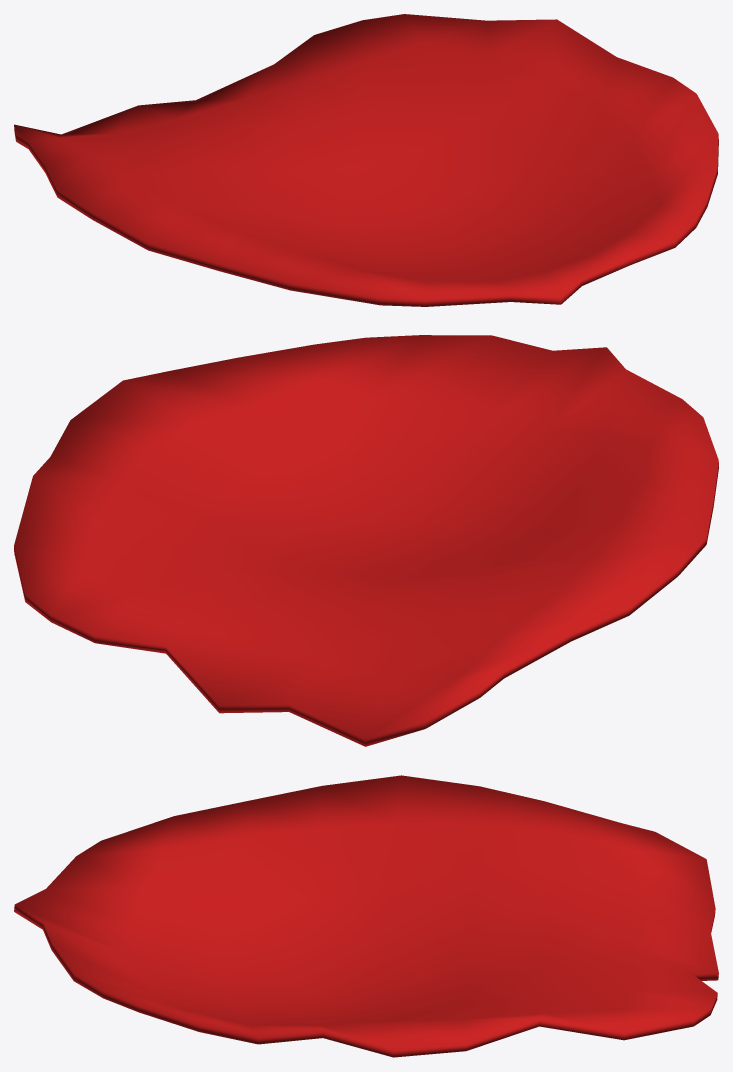
Rendered from petal.glb.
The picture shows the model from 3 angles, top to bottom: view 1: azimuth 30°, elevation 25°; view 2: azimuth 150°, elevation 25°; view 3: azimuth 270°, elevation 25°; orthographic projection. The views are drawn at different scales.
Parts seen in each view (by area): view 1: petal1; view 2: petal1; view 3: petal1.
Part boxes in pixels (x1,y1,x2,y2): petal1: (14,14,718,306); petal1: (14,335,718,746); petal1: (14,775,718,1057).
Bounding box in the file's own units: 1.7 × 0.2597 × 1.87.
